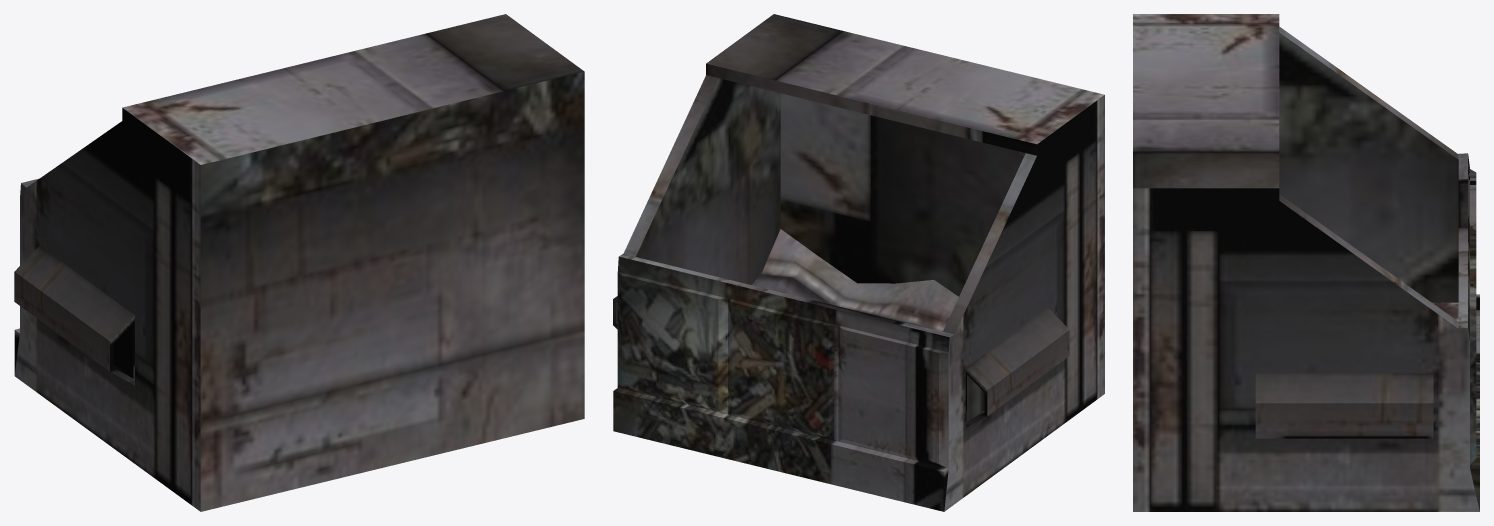
File: Rue_Benne.obj
The picture shows the model from 3 angles, left to right: view 1: azimuth 30°, elevation 25°; view 2: azimuth 150°, elevation 25°; view 3: azimuth 270°, elevation 25°; orthographic projection. The views are drawn at different scales.
Parts seen in each view (by area): view 1: Rue_Benne; view 2: Rue_Benne; view 3: Rue_Benne.
Boxes of the visible parts, x1,y1,x2,y2 form: Rue_Benne: (14,14,584,511); Rue_Benne: (613,14,1104,511); Rue_Benne: (1133,14,1479,511).
Bounding box in the file's own units: 2.46 × 1.88 × 1.83.
1 material, 1 textured.
